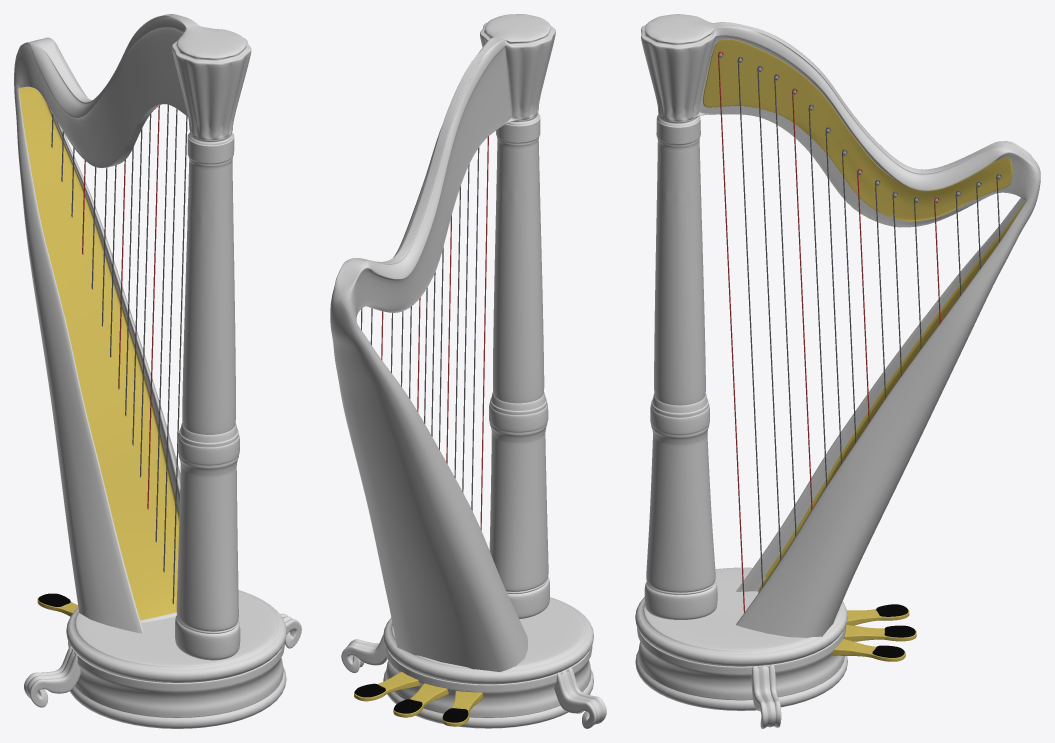
File: HarpV2.fbx
3 renders of one model, left to right at view 1: azimuth 30°, elevation 25°; view 2: azimuth 150°, elevation 25°; view 3: azimuth 270°, elevation 25°, orthographic. The views are drawn at different scales.
Visible parts, largest first — view 1: HarpV2; view 2: HarpV2; view 3: HarpV2.
Part boxes in pixels (x1,y1,x2,y2): HarpV2: (14,14,301,728); HarpV2: (330,14,606,728); HarpV2: (635,14,1040,728).
Size of the model in its own units: 289 by 683 by 388.
